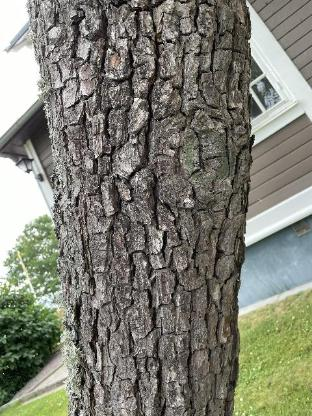tree: (22, 0, 256, 416)
